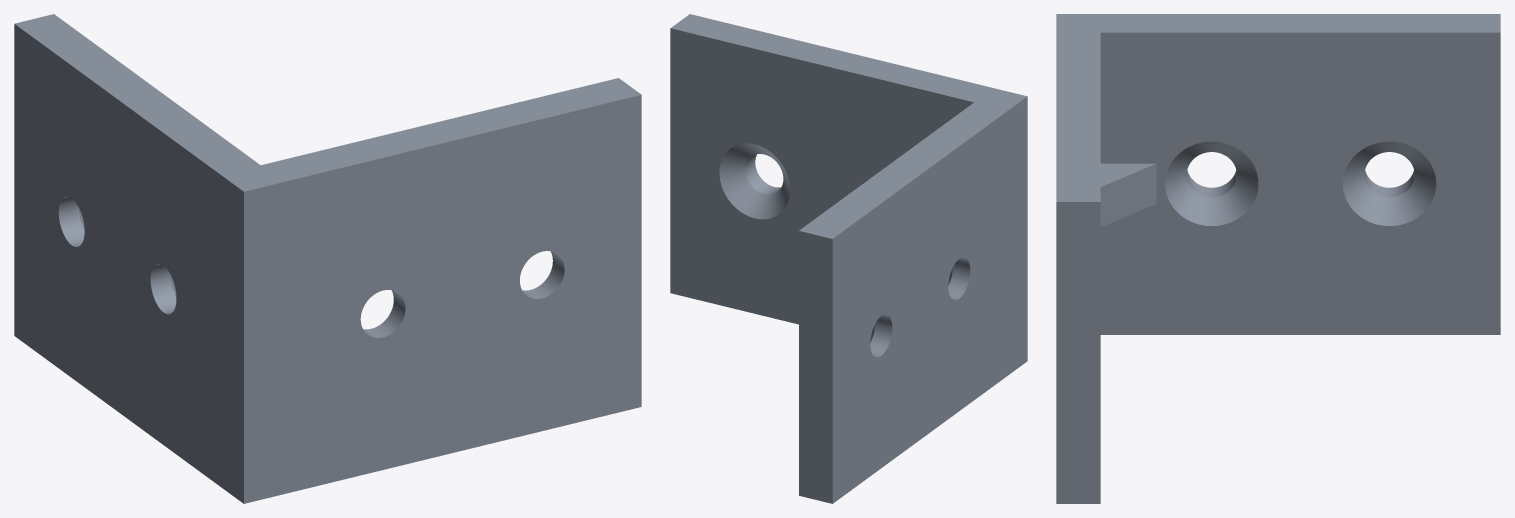
Rendered from step-3.glb.
3 views of the same model, side by side, from view 1: azimuth 30°, elevation 25°; view 2: azimuth 150°, elevation 25°; view 3: azimuth 270°, elevation 25° (orthographic). The views are drawn at different scales.
Visible parts, largest first — view 1: face_99e99127eb9db6edd6e2, face_f769a30b4701ea59d85e, face_9a606aa5243323bfbf13, face_147180d4135c09a1fdf1, face_adf40c101b04ac4915fd, face_bd97f9682edd511c821e, face_b400ec1f4ef2d38a1665; view 2: face_f769a30b4701ea59d85e, face_4461bba3de31cc364455, face_9a606aa5243323bfbf13, face_e79a2301288199424551, face_c2d4bed56923391f457f, face_147180d4135c09a1fdf1, face_adf40c101b04ac4915fd, face_b400ec1f4ef2d38a1665; view 3: face_00eb9ca7ff355d26a54f, face_9a606aa5243323bfbf13, face_88a4432b375be22d6a92, face_d80a9fef620c231af23e, face_9da2e519bf22c513074b, face_5684a2bbc245b59946d9, face_f68208fe4b2fa636d679, face_147180d4135c09a1fdf1, face_adf40c101b04ac4915fd.
Part boxes in pixels (<box>): face_99e99127eb9db6edd6e2: <box>244,95,641,503</box>; face_f769a30b4701ea59d85e: <box>14,24,243,503</box>; face_9a606aa5243323bfbf13: <box>14,14,641,191</box>; face_147180d4135c09a1fdf1: <box>58,196,84,246</box>; face_adf40c101b04ac4915fd: <box>150,264,176,314</box>; face_bd97f9682edd511c821e: <box>363,290,405,337</box>; face_b400ec1f4ef2d38a1665: <box>522,251,564,298</box>; face_f769a30b4701ea59d85e: <box>832,96,1027,503</box>; face_4461bba3de31cc364455: <box>670,28,973,324</box>; face_9a606aa5243323bfbf13: <box>671,14,1026,238</box>; face_e79a2301288199424551: <box>799,231,832,503</box>; face_c2d4bed56923391f457f: <box>719,143,790,219</box>; face_147180d4135c09a1fdf1: <box>870,314,892,357</box>; face_adf40c101b04ac4915fd: <box>948,257,970,300</box>; face_b400ec1f4ef2d38a1665: <box>745,154,780,194</box>; face_00eb9ca7ff355d26a54f: <box>1100,32,1500,334</box>; face_9a606aa5243323bfbf13: <box>1056,14,1500,201</box>; face_88a4432b375be22d6a92: <box>1056,202,1100,503</box>; face_d80a9fef620c231af23e: <box>1165,141,1258,225</box>; face_9da2e519bf22c513074b: <box>1343,141,1436,225</box>; face_5684a2bbc245b59946d9: <box>1100,164,1156,226</box>; face_f68208fe4b2fa636d679: <box>1100,163,1155,186</box>; face_147180d4135c09a1fdf1: <box>1364,170,1414,197</box>; face_adf40c101b04ac4915fd: <box>1186,170,1236,197</box>.
Size of the model in its own units: 0.04 by 0.03 by 0.04.
